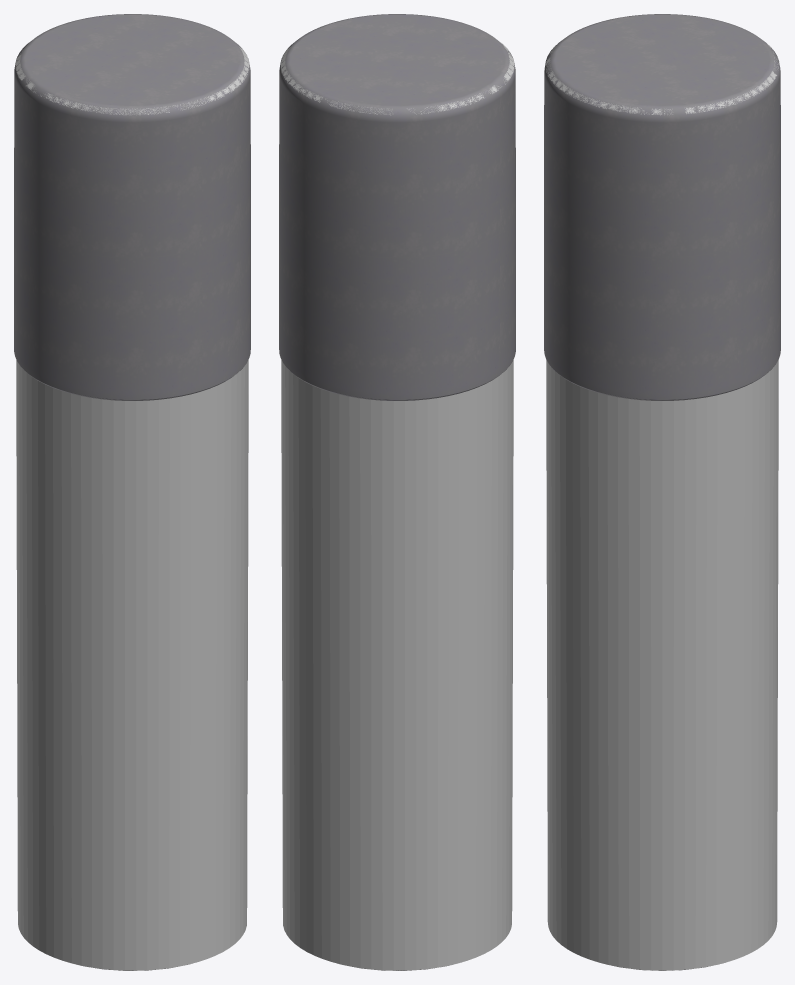
File: SM_TowerBig01.fbx
The picture shows the model from 3 angles, left to right: view 1: azimuth 30°, elevation 25°; view 2: azimuth 150°, elevation 25°; view 3: azimuth 270°, elevation 25°; orthographic projection.
Parts seen in each view (by area): view 1: SM_TowerBig01_ConvexHulls, SM_TowerBig01; view 2: SM_TowerBig01_ConvexHulls, SM_TowerBig01; view 3: SM_TowerBig01_ConvexHulls, SM_TowerBig01.
Boxes of the visible parts, box(x1,y1,x2,y2) form: SM_TowerBig01_ConvexHulls: box(15, 39, 249, 970); SM_TowerBig01: box(14, 14, 250, 970); SM_TowerBig01_ConvexHulls: box(280, 41, 514, 970); SM_TowerBig01: box(279, 14, 515, 970); SM_TowerBig01_ConvexHulls: box(545, 43, 779, 970); SM_TowerBig01: box(544, 14, 780, 970).
Size of the model in its own units: 1490 by 1490 by 5995.
